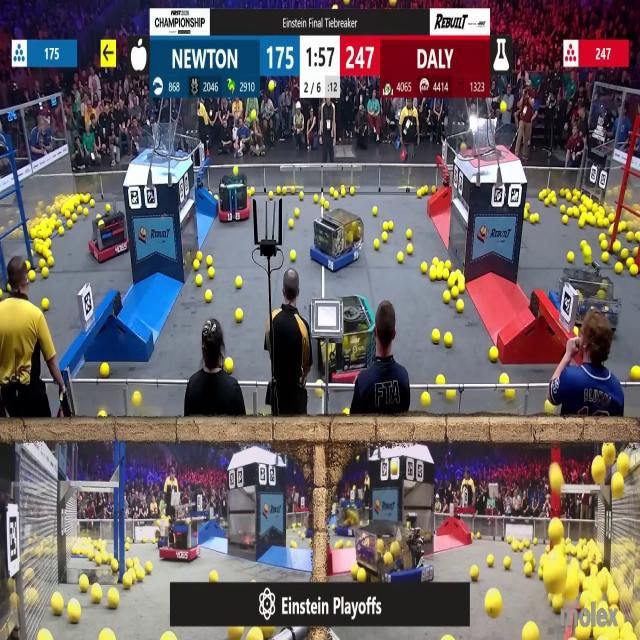ball_airborne: (550, 465, 563, 492), (549, 520, 564, 542), (593, 457, 605, 481), (612, 475, 624, 498), (602, 444, 614, 464), (618, 454, 630, 474), (249, 629, 261, 640), (388, 461, 396, 477), (500, 100, 507, 111), (250, 110, 256, 120), (389, 0, 396, 8), (460, 143, 466, 152), (344, 0, 350, 5)
ball_ground: (488, 593, 502, 616), (68, 601, 80, 623), (524, 624, 538, 640), (108, 590, 119, 609), (54, 595, 64, 615), (92, 587, 102, 604), (553, 596, 563, 613), (610, 587, 620, 604), (79, 577, 88, 593), (356, 568, 366, 582), (490, 347, 499, 362), (469, 565, 478, 580), (122, 573, 131, 588), (575, 628, 586, 640), (101, 630, 114, 640), (224, 357, 232, 372), (101, 362, 109, 377), (38, 630, 50, 640), (422, 392, 430, 406), (632, 365, 640, 379), (446, 334, 454, 348), (134, 392, 142, 406), (579, 595, 587, 609), (210, 570, 219, 582), (136, 570, 145, 582), (543, 400, 551, 413), (432, 330, 439, 344), (458, 279, 465, 293), (456, 301, 464, 313), (236, 310, 244, 322), (630, 266, 638, 278), (616, 264, 624, 275), (505, 389, 513, 400), (448, 389, 456, 400), (500, 374, 508, 385), (428, 270, 436, 281), (350, 564, 358, 575), (503, 558, 510, 570), (42, 300, 49, 312), (487, 555, 494, 567), (445, 290, 452, 302), (111, 560, 118, 572), (525, 564, 532, 576), (452, 288, 459, 300), (438, 376, 446, 386), (584, 247, 592, 257), (621, 248, 629, 258), (614, 242, 622, 252), (602, 251, 609, 262), (607, 223, 614, 234), (206, 290, 212, 302), (578, 216, 584, 228), (146, 562, 152, 574), (388, 221, 396, 230), (42, 269, 49, 279), (567, 252, 574, 262), (601, 241, 608, 251), (444, 270, 451, 280), (192, 262, 199, 272), (448, 278, 455, 288), (164, 633, 174, 640), (237, 277, 243, 288), (290, 250, 296, 261), (421, 265, 427, 276), (127, 559, 134, 568), (195, 276, 201, 286), (408, 245, 414, 255), (208, 269, 214, 279), (397, 252, 403, 262), (29, 272, 35, 282), (47, 257, 53, 267), (293, 208, 299, 218), (375, 240, 381, 250), (536, 214, 542, 224), (524, 553, 530, 563), (620, 222, 626, 232), (435, 271, 441, 281), (603, 217, 609, 227), (627, 257, 634, 265), (446, 262, 453, 270), (207, 256, 213, 265), (407, 231, 413, 240), (432, 256, 438, 265), (530, 214, 536, 223), (628, 233, 634, 242), (39, 258, 45, 267), (566, 207, 572, 216), (513, 541, 519, 550), (322, 201, 328, 210), (573, 327, 579, 336), (598, 290, 604, 299), (288, 218, 293, 228), (383, 233, 388, 243), (635, 232, 640, 242), (537, 568, 542, 578), (586, 256, 592, 264), (344, 410, 350, 418), (269, 190, 275, 198), (68, 220, 74, 228), (579, 240, 585, 248), (290, 540, 296, 548), (123, 542, 129, 550), (538, 190, 544, 198), (100, 412, 106, 420), (524, 212, 530, 220), (552, 198, 558, 206), (6, 284, 12, 292), (194, 252, 200, 260), (276, 186, 282, 194), (328, 187, 334, 195), (66, 210, 72, 218), (335, 190, 341, 198), (566, 192, 572, 200), (350, 187, 356, 195), (563, 215, 568, 224), (371, 207, 376, 216), (60, 226, 65, 235), (314, 193, 319, 202), (634, 248, 639, 257), (524, 204, 530, 211), (83, 208, 88, 216), (561, 206, 566, 214), (27, 263, 32, 271), (337, 540, 342, 548), (0, 289, 4, 299), (46, 240, 51, 248), (282, 187, 287, 195), (560, 188, 565, 196), (384, 221, 388, 230), (445, 636, 454, 640), (600, 234, 605, 241), (299, 191, 303, 199), (544, 199, 548, 207), (72, 214, 76, 222), (92, 200, 96, 208), (418, 189, 422, 197), (348, 540, 352, 548), (431, 185, 435, 193), (506, 536, 511, 542), (106, 205, 110, 212), (152, 536, 156, 543), (475, 532, 479, 538)
goal: (465, 122, 521, 160), (130, 129, 188, 160)
robot_blue: (355, 524, 432, 591), (313, 210, 365, 272), (336, 507, 364, 538)
robot_red: (319, 294, 376, 384), (156, 517, 202, 562), (88, 214, 128, 264), (219, 172, 252, 224)
